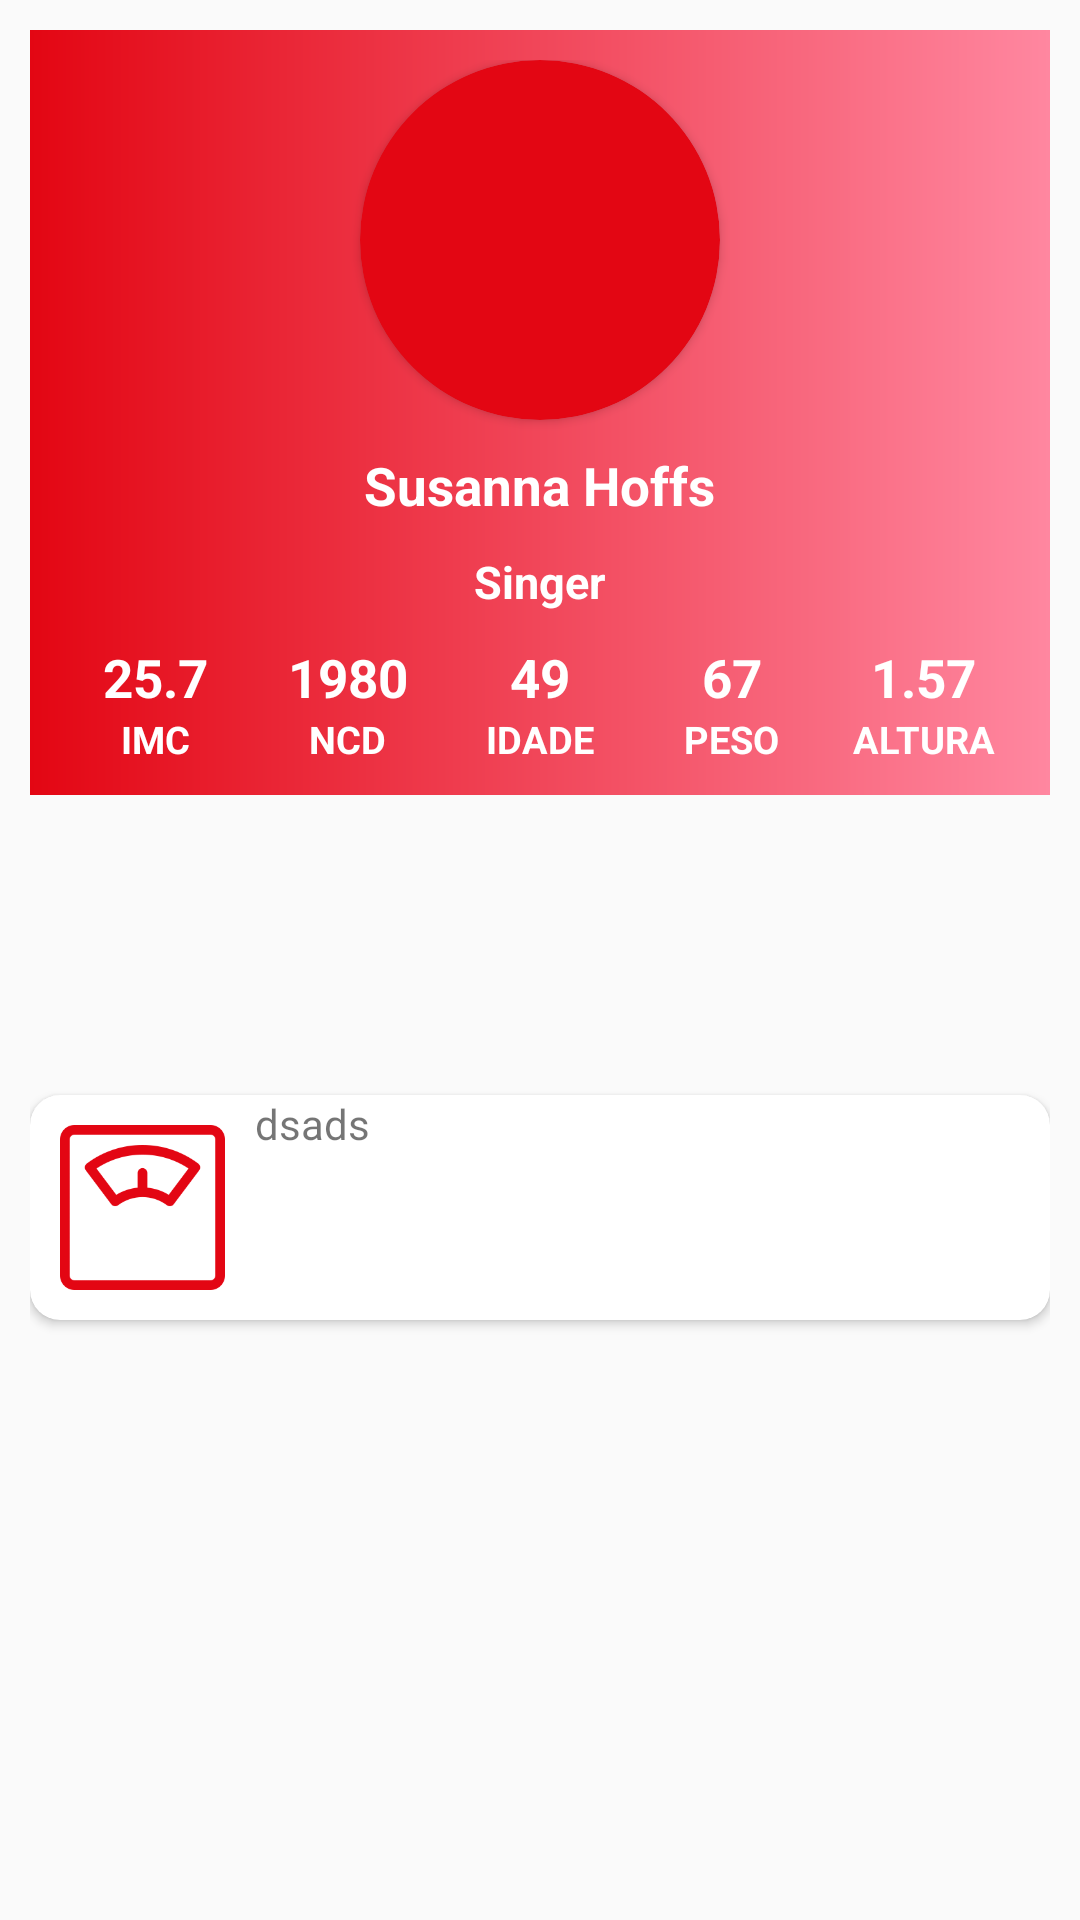

Icon click points for this 1080w x 1920h phone screenshot, format (x,y):
weight: (127,1200)
